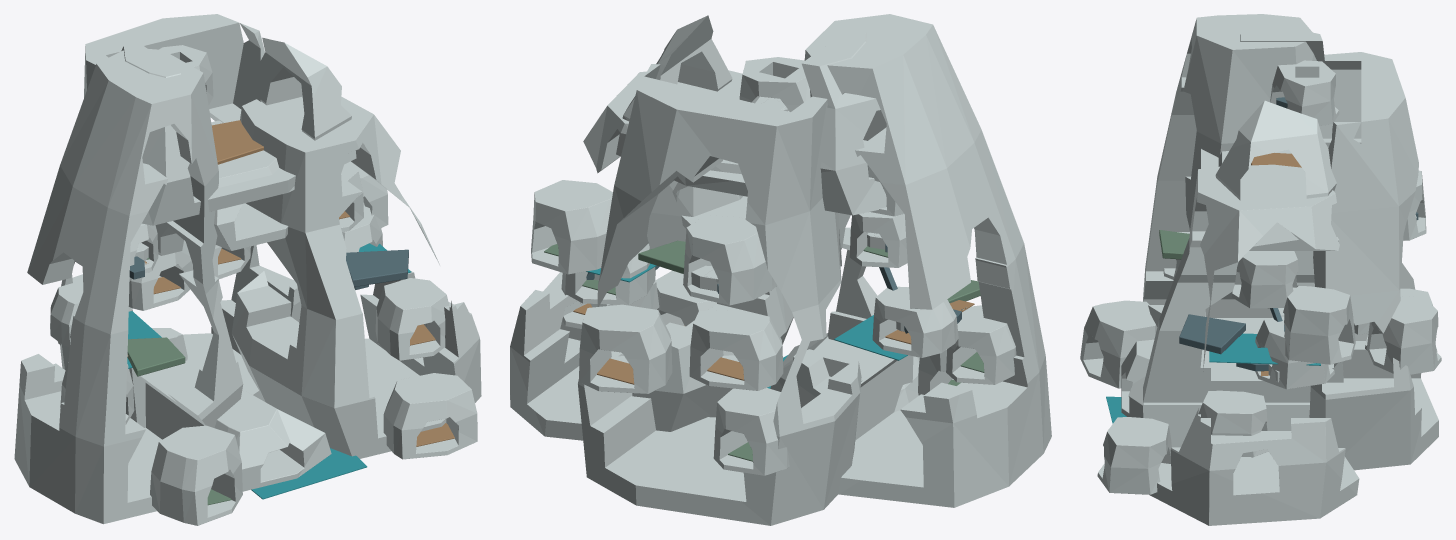
3 views of the same model, side by side, from view 1: azimuth 30°, elevation 25°; view 2: azimuth 150°, elevation 25°; view 3: azimuth 270°, elevation 25° (orthographic). The views are drawn at different scales.
Parts seen in each view (by area): view 1: C01_WEST_DEEP__inhabited_land, C02_EAST_TIDELAND__inhabited_land, C03_REAR_ARCHIVE__inhabited_land, C04_CONFLUENCE_SKY__inhabited_land, R1_S01__inhabited_land, R1_INNER_COAST__inhabited_land, R1_S02__inhabited_land, R1_E01__inhabited_land, R2_INTERWORLD_COMMON__inhabited_land, R1_N01__inhabited_land, East collective ground, Lower confluence water (+11 smaller); view 2: C01_WEST_DEEP__inhabited_land, C03_REAR_ARCHIVE__inhabited_land, C02_EAST_TIDELAND__inhabited_land, C04_CONFLUENCE_SKY__inhabited_land, R2_N_EAST__inhabited_land, R2_SIDE_INNER__inhabited_land, R1_N01__inhabited_land, R2_N_HIGH__inhabited_land, R2_N_LOWER__inhabited_land, R1_W02__inhabited_land, R1_W01__inhabited_land, R2_ZENITH__inhabited_land (+10 smaller); view 3: C02_EAST_TIDELAND__inhabited_land, C03_REAR_ARCHIVE__inhabited_land, C01_WEST_DEEP__inhabited_land, C04_CONFLUENCE_SKY__inhabited_land, R2_SIDE_INNER__inhabited_land, R1_S02__inhabited_land, R1_S01__inhabited_land, R2_N_EAST__inhabited_land, R1_E03__inhabited_land, R2_ZENITH__inhabited_land, R1_E01__inhabited_land, R1_E02__inhabited_land (+6 smaller).
Part boxes in pixels (<box>): C01_WEST_DEEP__inhabited_land: <box>14,49,243,524</box>; C02_EAST_TIDELAND__inhabited_land: <box>232,96,481,458</box>; C03_REAR_ARCHIVE__inhabited_land: <box>60,14,301,427</box>; C04_CONFLUENCE_SKY__inhabited_land: <box>121,37,356,225</box>; R1_S01__inhabited_land: <box>150,425,242,525</box>; R1_INNER_COAST__inhabited_land: <box>214,391,331,491</box>; R1_S02__inhabited_land: <box>383,373,477,459</box>; R1_E01__inhabited_land: <box>375,278,449,360</box>; R2_INTERWORLD_COMMON__inhabited_land: <box>211,123,288,250</box>; R1_N01__inhabited_land: <box>128,240,193,310</box>; East collective ground: <box>346,249,408,286</box>; Lower confluence water: <box>251,448,367,499</box>; C01_WEST_DEEP__inhabited_land: <box>793,14,1051,507</box>; C03_REAR_ARCHIVE__inhabited_land: <box>578,64,861,525</box>; C02_EAST_TIDELAND__inhabited_land: <box>510,70,793,440</box>; C04_CONFLUENCE_SKY__inhabited_land: <box>616,15,886,215</box>; R2_N_EAST__inhabited_land: <box>579,304,672,393</box>; R2_SIDE_INNER__inhabited_land: <box>531,180,612,274</box>; R1_N01__inhabited_land: <box>689,310,783,390</box>; R2_N_HIGH__inhabited_land: <box>683,215,777,305</box>; R2_N_LOWER__inhabited_land: <box>713,387,789,475</box>; R1_W02__inhabited_land: <box>872,286,958,357</box>; R1_W01__inhabited_land: <box>946,305,1016,384</box>; R2_ZENITH__inhabited_land: <box>739,57,810,111</box>; C02_EAST_TIDELAND__inhabited_land: <box>1143,164,1359,525</box>; C03_REAR_ARCHIVE__inhabited_land: <box>1278,52,1438,470</box>; C01_WEST_DEEP__inhabited_land: <box>1143,14,1316,333</box>; C04_CONFLUENCE_SKY__inhabited_land: <box>1201,28,1336,246</box>; R2_SIDE_INNER__inhabited_land: <box>1283,286,1355,364</box>; R1_S02__inhabited_land: <box>1097,417,1171,494</box>; R1_S01__inhabited_land: <box>1080,300,1157,388</box>; R2_N_EAST__inhabited_land: <box>1366,296,1441,374</box>; R1_E03__inhabited_land: <box>1231,251,1298,308</box>; R2_ZENITH__inhabited_land: <box>1270,60,1339,125</box>; R1_E01__inhabited_land: <box>1198,390,1268,457</box>; R1_E02__inhabited_land: <box>1255,316,1334,389</box>.
Size of the model in its own units: 5430 by 4560 by 4204.
